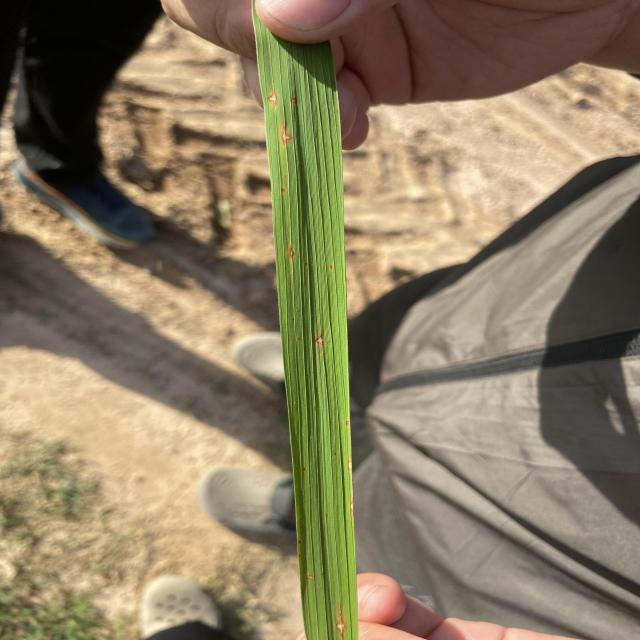Dao on: (267, 89, 279, 108), (336, 617, 347, 637), (280, 128, 292, 144), (316, 334, 323, 347), (305, 572, 313, 582), (291, 96, 297, 106), (289, 249, 293, 257)
